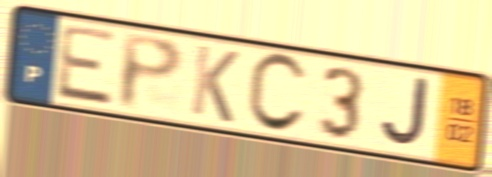3: (316, 64, 366, 141)
C: (243, 50, 310, 136)
E: (53, 22, 120, 109)
J: (378, 74, 431, 151)
K: (187, 42, 242, 127)
P: (117, 30, 186, 114)
